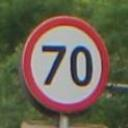speed_limit_70: (22, 15, 110, 115)
